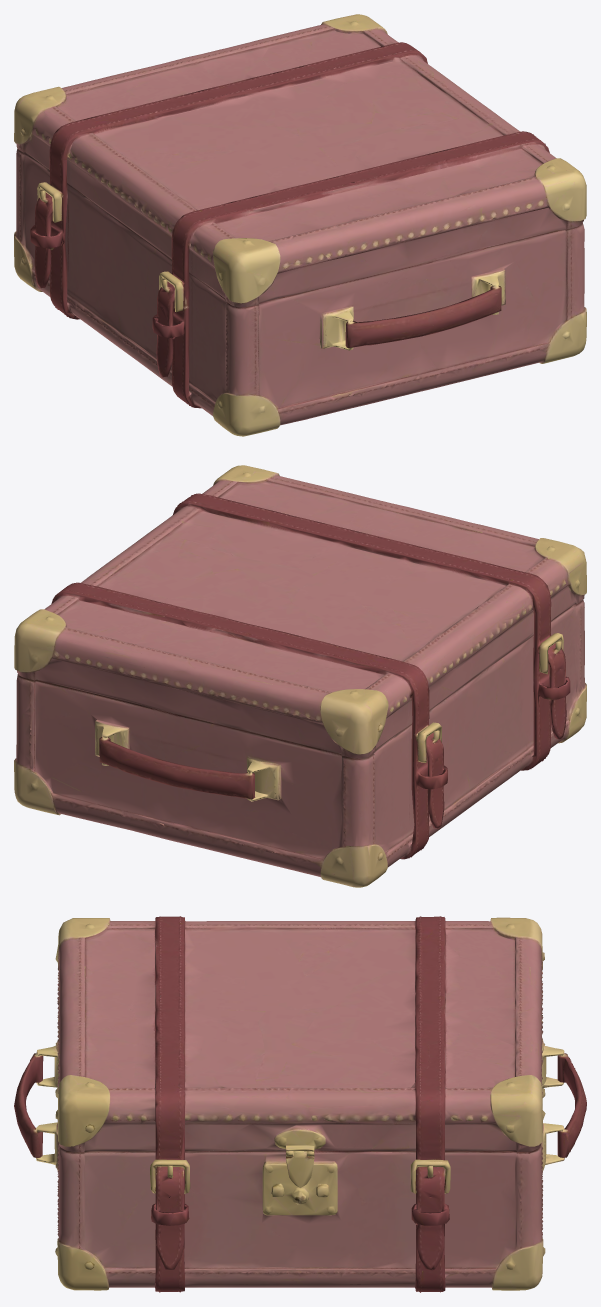
File: trunk-pink.glb
3 views of the same model, one above another, from view 1: azimuth 30°, elevation 25°; view 2: azimuth 150°, elevation 25°; view 3: azimuth 270°, elevation 25° (orthographic). The views are drawn at different scales.
Size of the model in its own units: 1.77 by 0.7782 by 2.
Materials: 1 (1 with a texture image).
